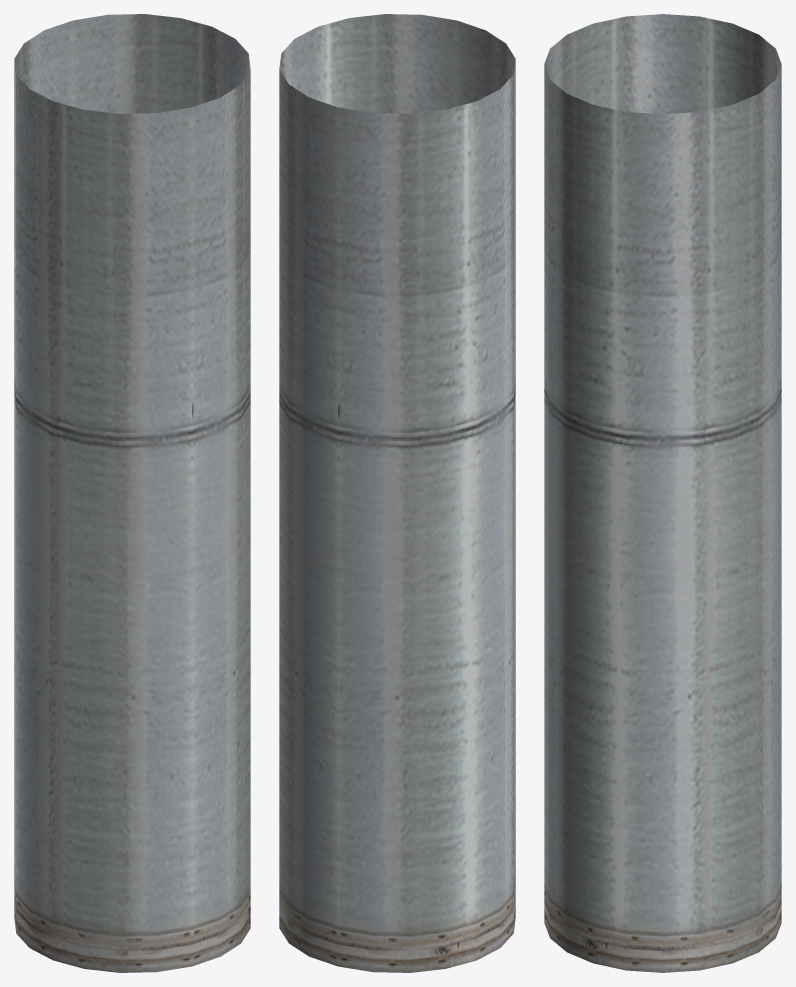
Rendered from Pipe_B_0'5mts_05.fbx.
3 renders of one model, left to right at view 1: azimuth 30°, elevation 25°; view 2: azimuth 150°, elevation 25°; view 3: azimuth 270°, elevation 25°, orthographic.
Parts seen in each view (by area): view 1: Pipe_B_0'5mts_05; view 2: Pipe_B_0'5mts_05; view 3: Pipe_B_0'5mts_05.
Boxes of the visible parts, x1,y1,x2,y2 form: Pipe_B_0'5mts_05: (14, 14, 250, 972); Pipe_B_0'5mts_05: (279, 14, 515, 972); Pipe_B_0'5mts_05: (544, 14, 781, 972).
Size of the model in its own units: 50.14 by 200 by 50.14.
1 material, 1 textured.
